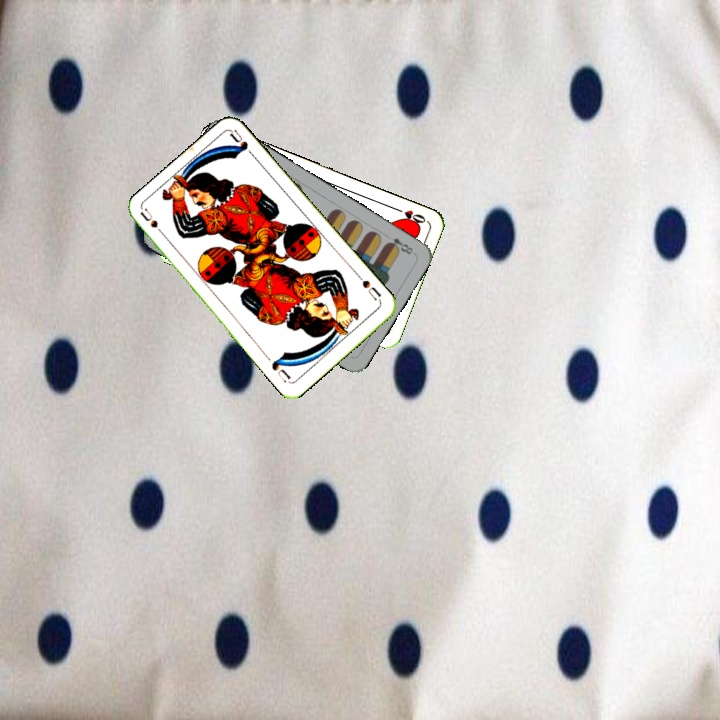E8: (382, 233, 416, 257)
HO: (390, 203, 428, 227)
SU: (137, 205, 169, 241), (353, 271, 384, 305)
